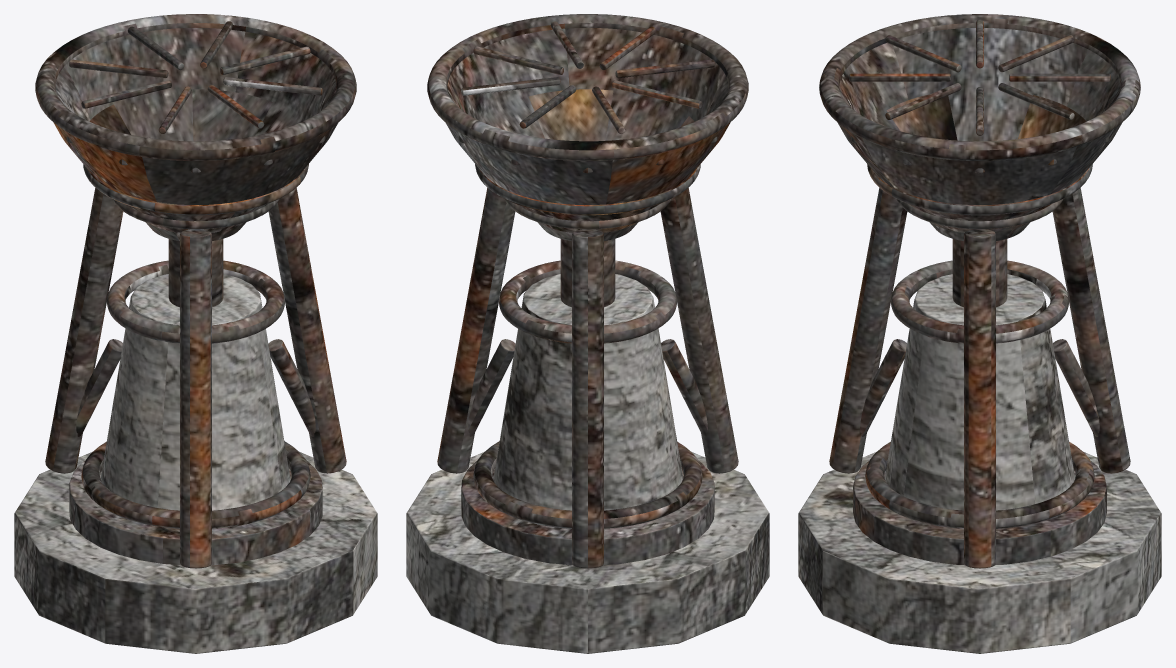
Rendered from watchtower-signal-brazier-v02.glb.
The picture shows the model from 3 angles, left to right: view 1: azimuth 30°, elevation 25°; view 2: azimuth 150°, elevation 25°; view 3: azimuth 270°, elevation 25°; orthographic projection.
Parts seen in each view (by area): view 1: watchtower-signal-brazier-v02; view 2: watchtower-signal-brazier-v02; view 3: watchtower-signal-brazier-v02.
Boxes of the visible parts, x1,y1,x2,y2 form: watchtower-signal-brazier-v02: (14,14,377,653); watchtower-signal-brazier-v02: (406,14,769,653); watchtower-signal-brazier-v02: (798,14,1161,653).
Bounding box in the file's own units: 1 × 1.53 × 1.
2 materials, 2 textured.
